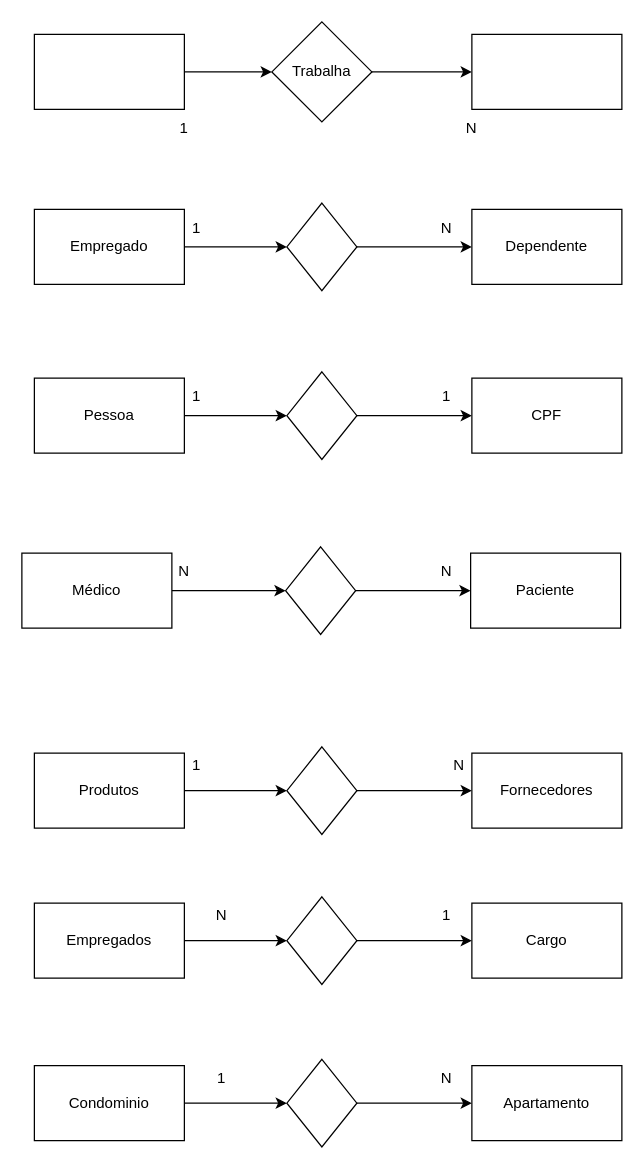
The diagram is 644 pixels wide and 1169 high, and some of its shapes have lost their labels. Each missing label, with the centre of its shape:
"Departamento" goes at (108,71).
"Funcionário" goes at (546,71).
